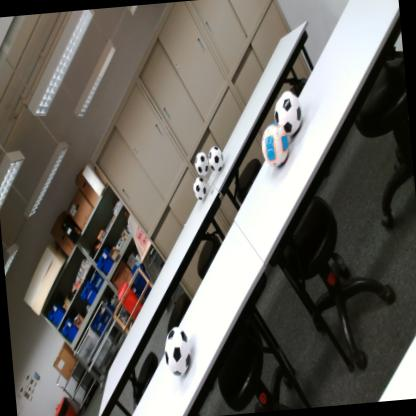ball: (164, 323, 194, 378), (259, 122, 292, 167), (276, 89, 304, 139), (208, 145, 226, 171), (194, 150, 209, 178), (193, 176, 208, 200)
